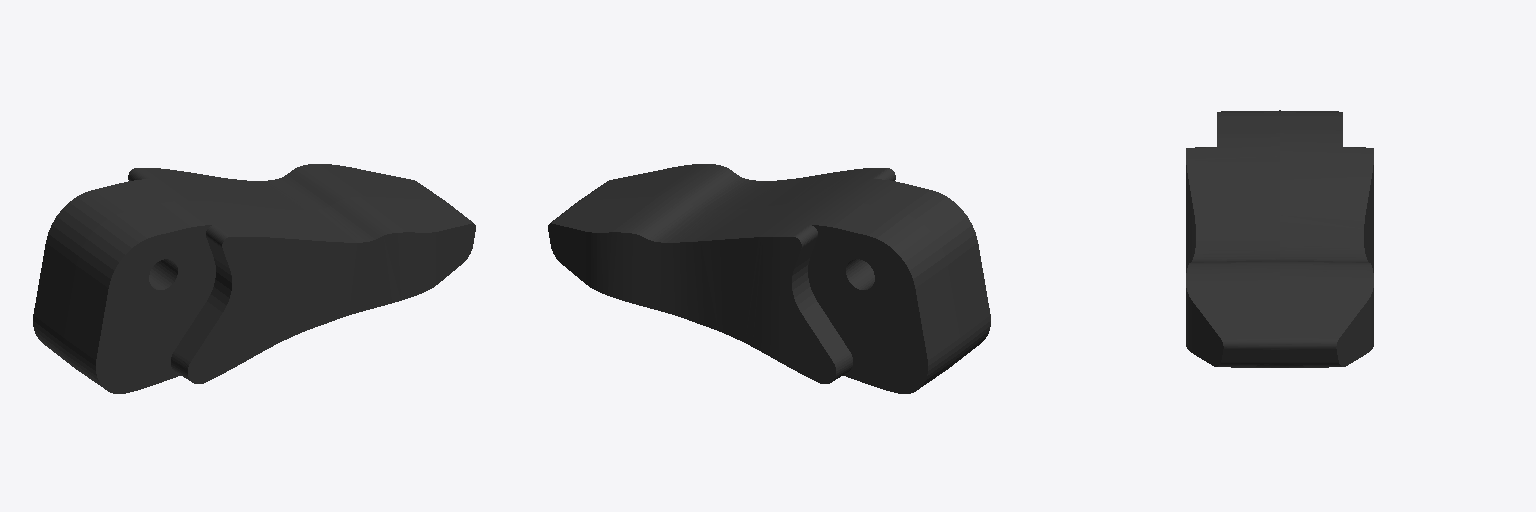
The model's file is j2n6s300_link_finger_tip_2_visuals_mesh_0.obj.
The picture shows the model from 3 angles: view 1: azimuth 30°, elevation 25°; view 2: azimuth 150°, elevation 25°; view 3: azimuth 270°, elevation 25°; orthographic projection.
Size of the model in its own units: 0.0532 by 0.0201 by 0.0225.